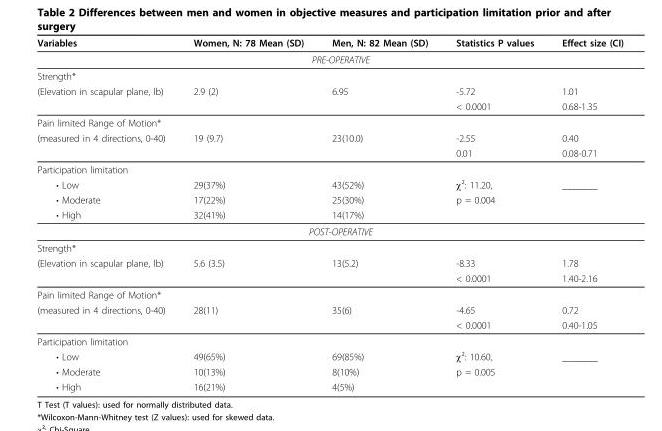table: (36, 36, 623, 392)
table column: (36, 36, 178, 392), (178, 36, 317, 392), (317, 36, 441, 392), (441, 36, 547, 392), (547, 36, 623, 392)
table column header: (36, 36, 623, 50)
table projected row header: (36, 50, 623, 67), (36, 222, 623, 239), (36, 67, 623, 83), (36, 114, 623, 130), (36, 160, 623, 176), (36, 239, 623, 255), (36, 286, 623, 302), (36, 332, 623, 348)
table row: (36, 50, 623, 67), (36, 222, 623, 239), (36, 67, 623, 83), (36, 98, 623, 114), (36, 114, 623, 130), (36, 160, 623, 176), (36, 206, 623, 222), (36, 239, 623, 255), (36, 270, 623, 286), (36, 286, 623, 302), (36, 332, 623, 348), (36, 83, 623, 98), (36, 130, 623, 145), (36, 145, 623, 160), (36, 176, 623, 191), (36, 191, 623, 206), (36, 255, 623, 270), (36, 302, 623, 317), (36, 317, 623, 332), (36, 348, 623, 363), (36, 363, 623, 378), (36, 36, 623, 50), (36, 378, 623, 392)
table spanning cell: (36, 83, 178, 114), (36, 255, 178, 286), (36, 130, 178, 160), (36, 302, 178, 332)
